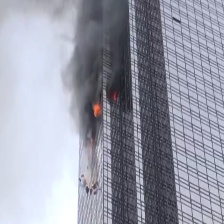fire: (92, 102, 102, 115), (112, 93, 119, 102)
smoke: (58, 1, 124, 103)
